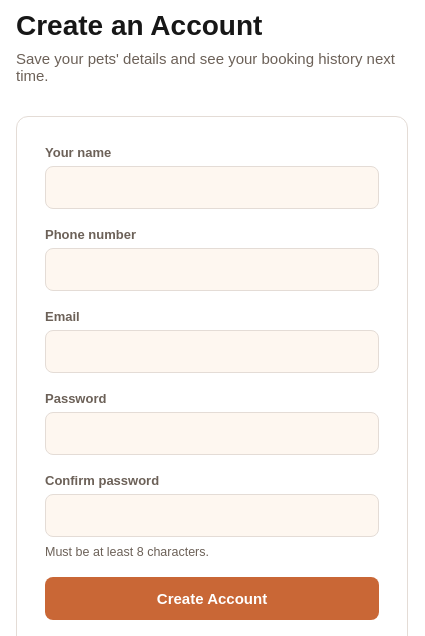
Test: SignupForm — form validation › rejects an empty submission with a name-required error
Step 1. Click the button with test id "signup-form-submit-button" → (212,598), box [45,577,379,620]
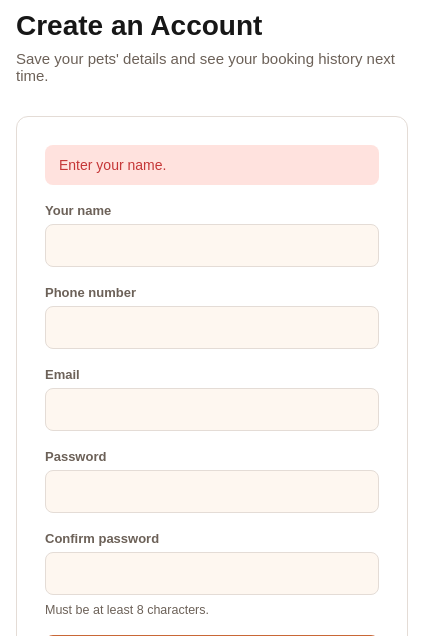
Expected: the text with test id "signup-form-error" reads "Enter your name.", [59,157,166,173]
